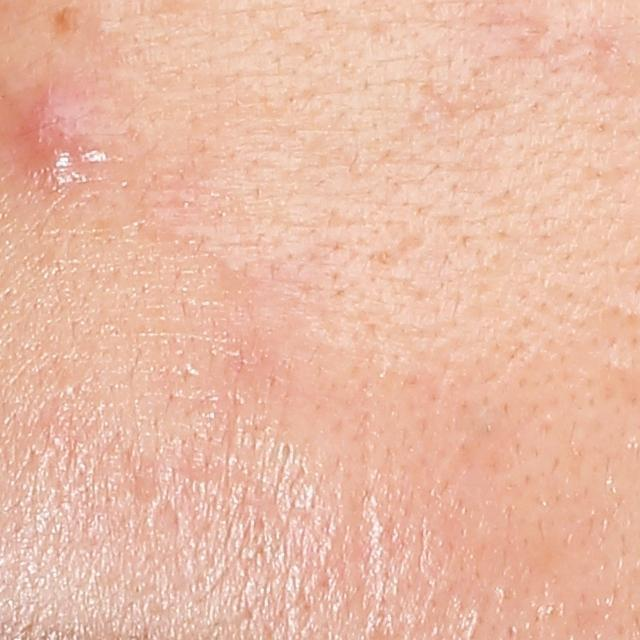papule: (18, 86, 97, 174)
